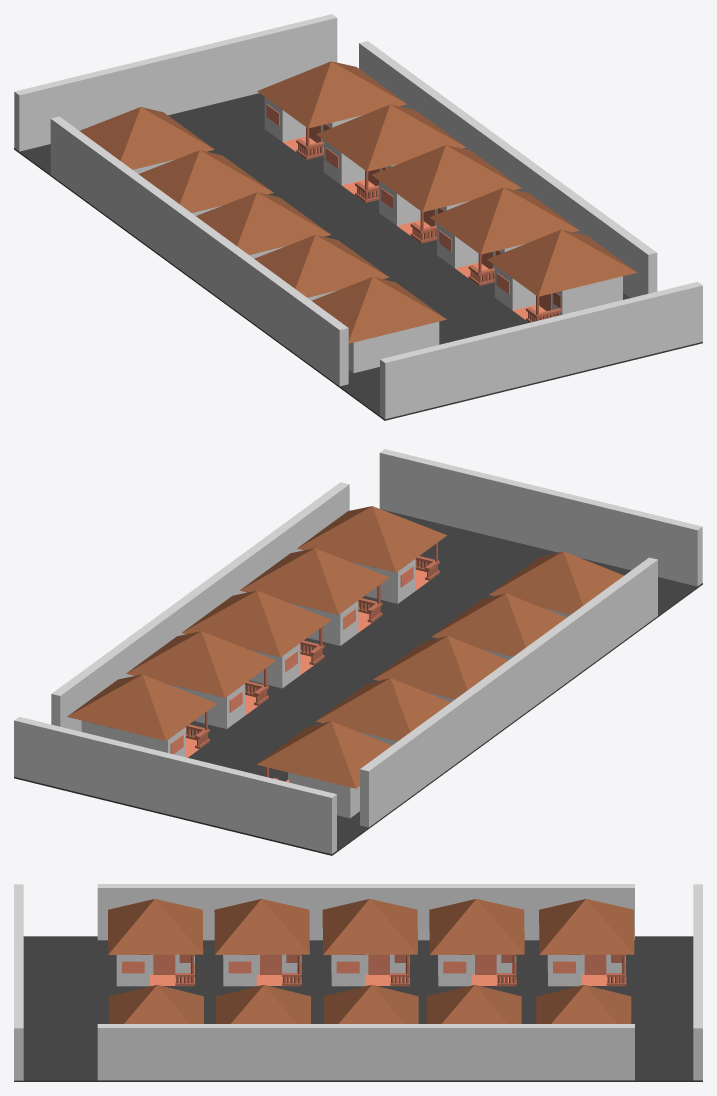
The model's file is perumBelanda.fbx.
3 views of the same model, one above another, from view 1: azimuth 30°, elevation 25°; view 2: azimuth 150°, elevation 25°; view 3: azimuth 270°, elevation 25° (orthographic). The views are drawn at different scales.
Parts seen in each view (by area): view 1: Cube, Cube.012, Cube.013, Cube.011, Cube.014, Cube.004, Cube.002, Cube.005, Cube.003, Cube.010, Cube.001, Cube.008 (+3 smaller); view 2: Cube, Cube.011, Cube.012, Cube.013, Cube.014, Cube.002, Cube.001, Cube.003, Cube.004, Cube.005, Cube.008, Cube.007 (+3 smaller); view 3: Cube, Cube.014, Cube.013, Cube.007, Cube.009, Cube.008, Cube.006, Cube.010, Cube.002, Cube.005, Cube.001, Cube.004 (+3 smaller).
Boxes of the visible parts, x1,y1,x2,y2 form: Cube: (14,93,702,420); Cube.012: (380,281,702,419); Cube.013: (50,116,348,386); Cube.011: (14,14,337,151); Cube.014: (359,41,657,297); Cube.004: (487,229,636,322); Cube.002: (257,61,406,159); Cube.005: (372,145,521,243); Cube.003: (430,187,579,285); Cube.010: (311,277,446,373); Cube.001: (316,104,465,202); Cube.008: (79,107,214,173); Cube: (14,509,702,855); Cube.011: (14,716,336,854); Cube.012: (379,449,702,586); Cube.013: (360,557,657,827); Cube.014: (51,482,349,731); Cube.002: (67,674,216,757); Cube.001: (126,631,275,728); Cube.003: (240,548,389,645); Cube.004: (297,506,446,603); Cube.005: (182,590,331,688); Cube.008: (256,721,391,818); Cube.007: (316,678,450,745); Cube: (14,936,702,1081); Cube.014: (97,1024,634,1080); Cube.013: (97,884,634,940); Cube.007: (429,899,524,986); Cube.009: (214,899,309,986); Cube.008: (539,899,634,986); Cube.006: (322,899,417,986); Cube.010: (108,899,203,986); Cube.002: (536,985,631,1023); Cube.005: (323,985,418,1023); Cube.001: (426,985,521,1023); Cube.004: (109,985,203,1023).
Size of the model in its own units: 23610 by 5179 by 47655.
